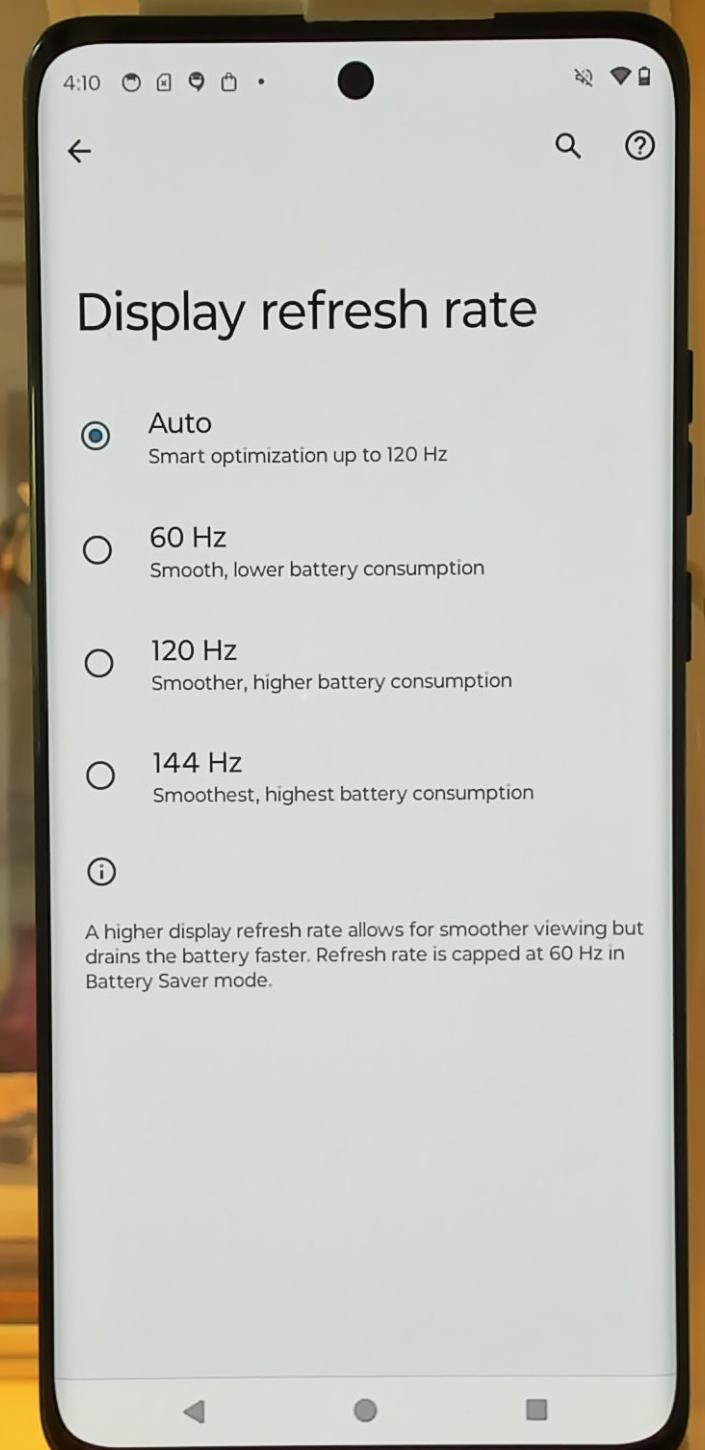RadioButton: (68, 498, 521, 612), (65, 383, 517, 485), (75, 733, 557, 819), (68, 630, 566, 706)
